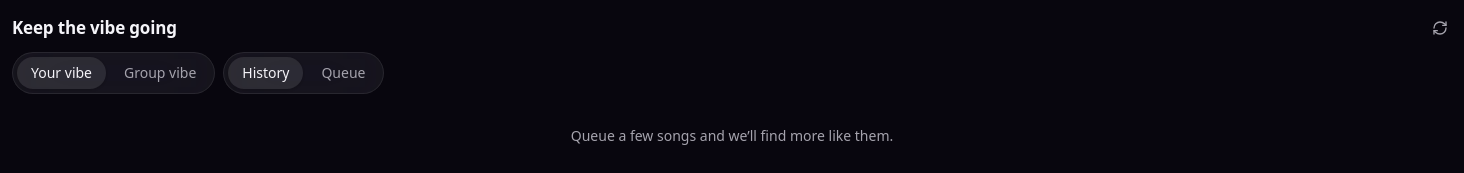
VibeSuggestions › switches to the group's vibe
Expected: the text "Queue a few songs and we’ll find more like them." is shown, [571, 126, 893, 145]
What coordinates should you click on to do the following:
click the radio button labelled "Group vibe"
I would click on:
 (160, 73)
Its box is [110, 57, 210, 89].
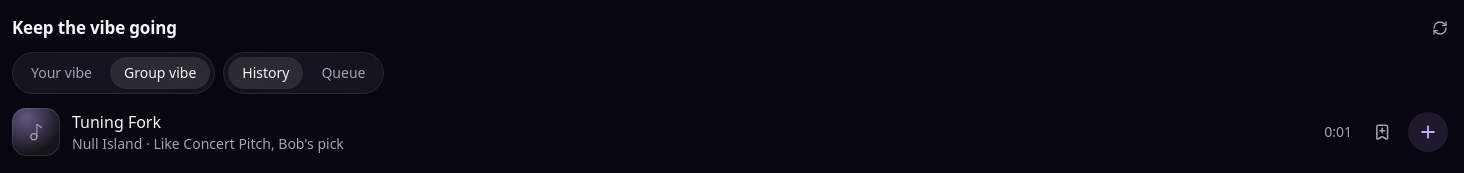
Expected: the text "Tuning Fork" is shown, [72, 110, 161, 134]
Expected: the text "Null Island · Like Concert Pitch, Bob's pick" is shown, [72, 134, 344, 154]
